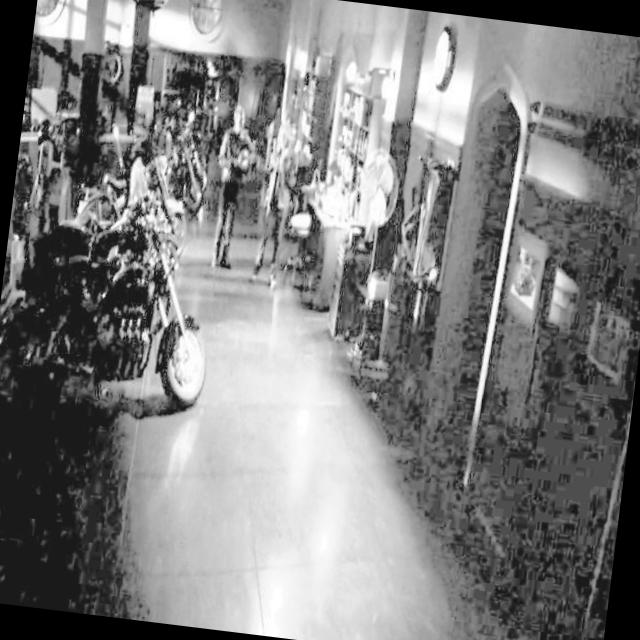Motorcycle: (0, 181, 221, 424), (68, 148, 198, 310), (113, 78, 220, 198)
